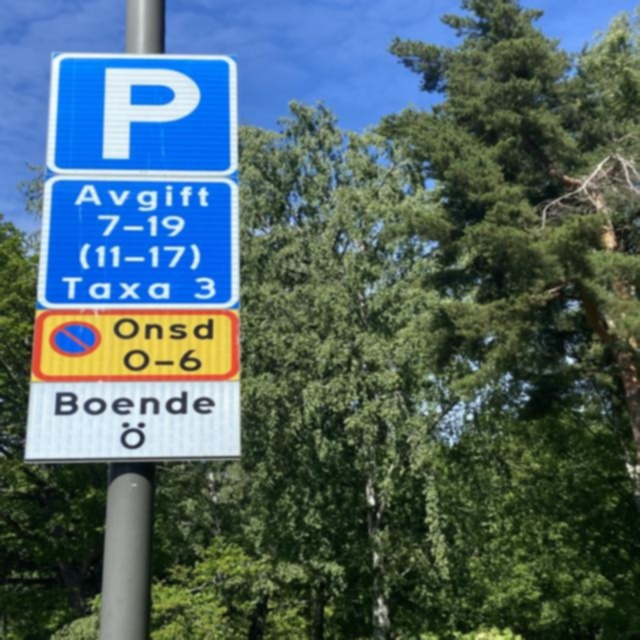P-skylt: (48, 50, 239, 175)
